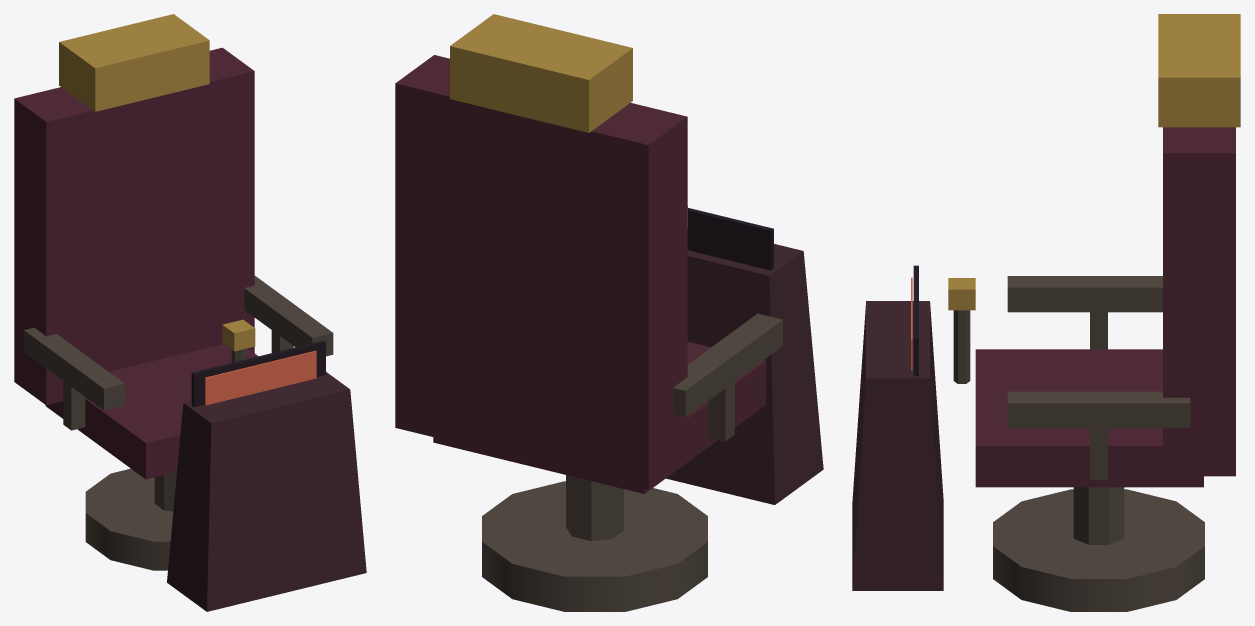
File: criminal_seat.glb
3 renders of one model, left to right at view 1: azimuth 30°, elevation 25°; view 2: azimuth 150°, elevation 25°; view 3: azimuth 270°, elevation 25°, orthographic. The views are drawn at different scales.
Visible parts, largest first — view 1: criminal_seat; view 2: criminal_seat; view 3: criminal_seat.
Boxes of the visible parts, x1,y1,x2,y2 form: criminal_seat: (14, 14, 366, 611); criminal_seat: (395, 14, 823, 611); criminal_seat: (852, 14, 1240, 611).
Bounding box in the file's own units: 0.66 × 1.26 × 0.85.
